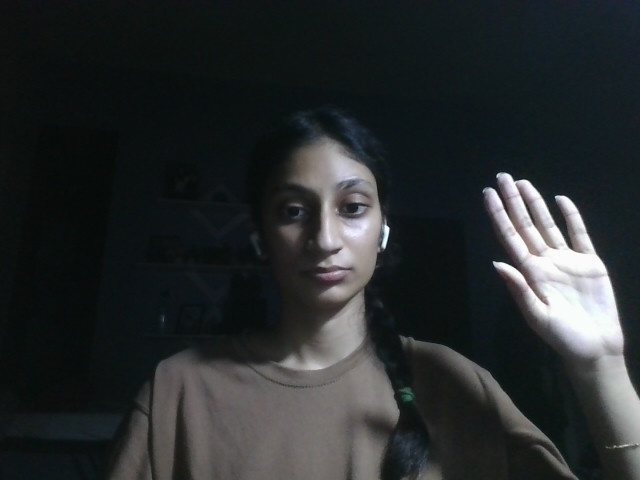hello: (479, 167, 630, 357)
